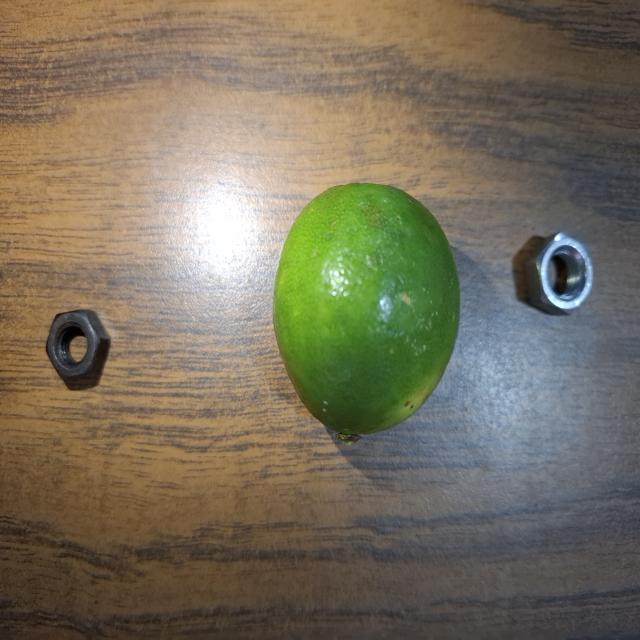limon: (272, 178, 466, 446)
milimetrico: (43, 306, 117, 388)
tuerca: (526, 229, 597, 326)
